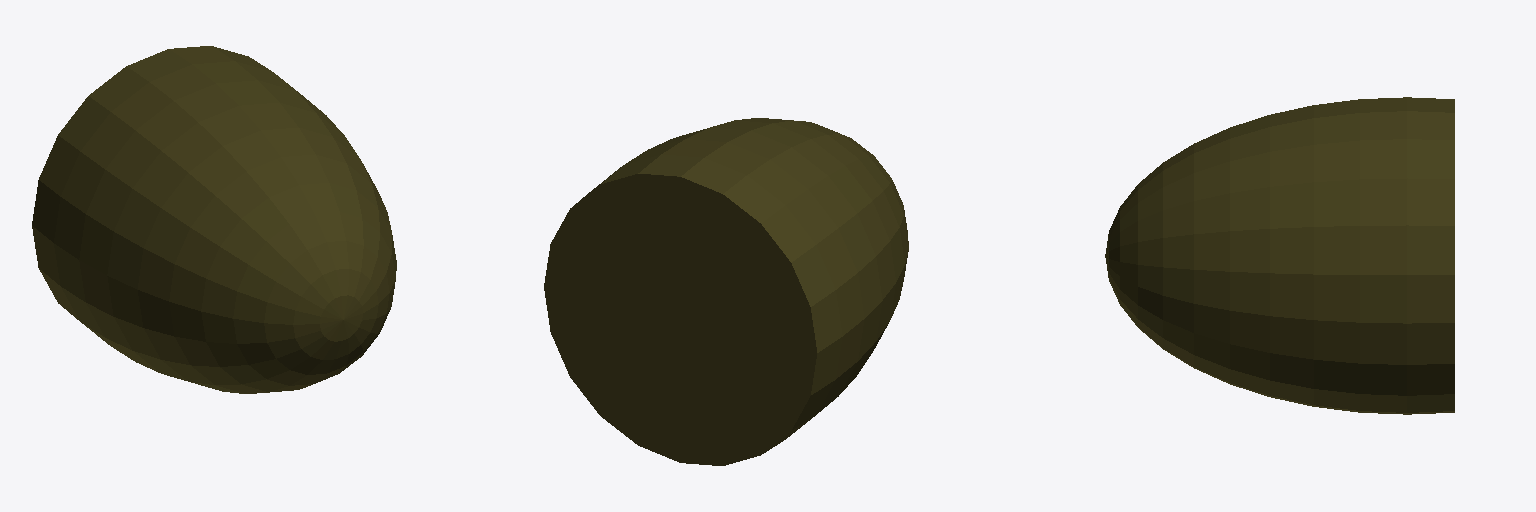
File: Pistol_Projectile.obj
The picture shows the model from 3 angles: view 1: azimuth 30°, elevation 25°; view 2: azimuth 150°, elevation 25°; view 3: azimuth 270°, elevation 25°; orthographic projection.
Parts seen in each view (by area): view 1: pSphere1 pistol_projectile; view 2: pSphere1 pistol_projectile; view 3: pSphere1 pistol_projectile.
Part boxes in pixels (x1,y1,x2,y2): pSphere1 pistol_projectile: (32, 46, 396, 393); pSphere1 pistol_projectile: (544, 118, 908, 465); pSphere1 pistol_projectile: (1105, 97, 1454, 414).
Bounding box in the file's own units: 2.15 × 2.15 × 2.35.